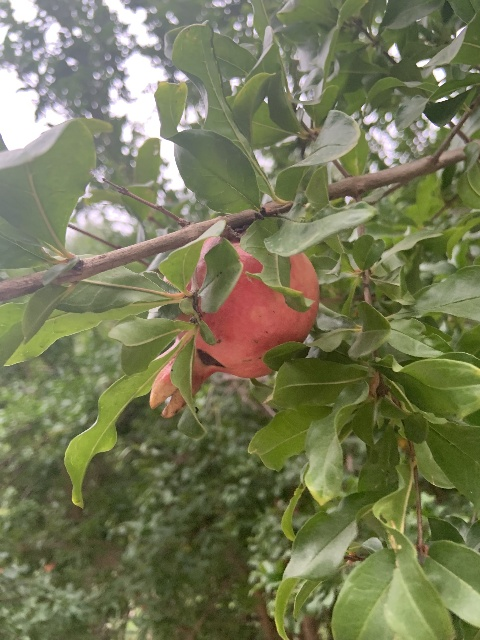ripe: (149, 236, 319, 417)
